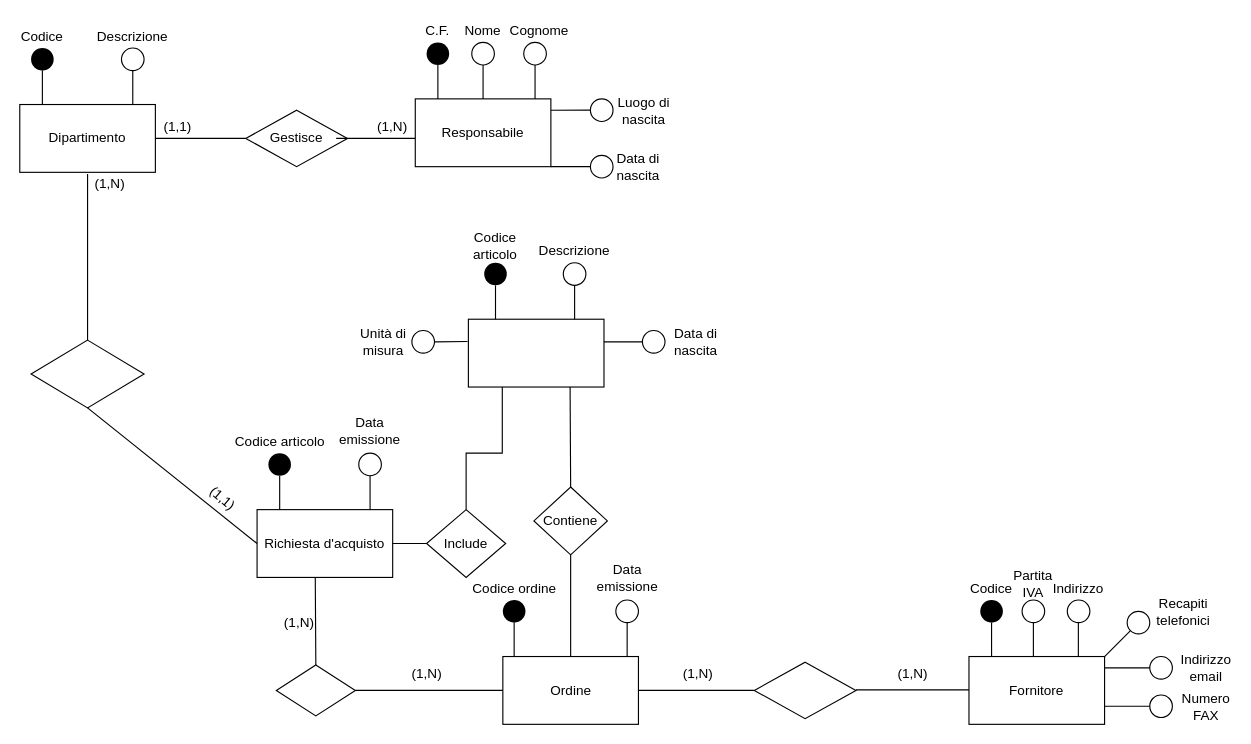
This 1251x744 diagram has some shape labels left out. The centre of each missing label's shape, as x and y in pixels:
"Articolo" goes at point (535, 352).
"Formula" goes at point (87, 373).
"Invia" goes at point (804, 690).
"Mutua" goes at point (315, 690).
